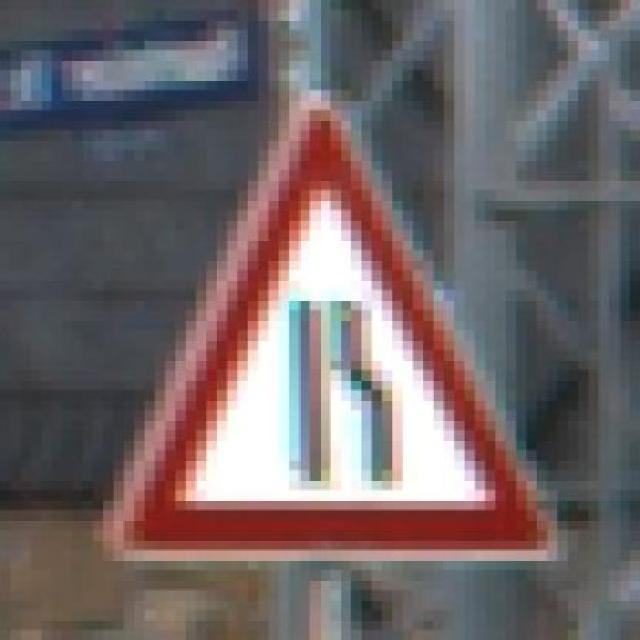-Road narrows on right: (92, 79, 568, 570)
